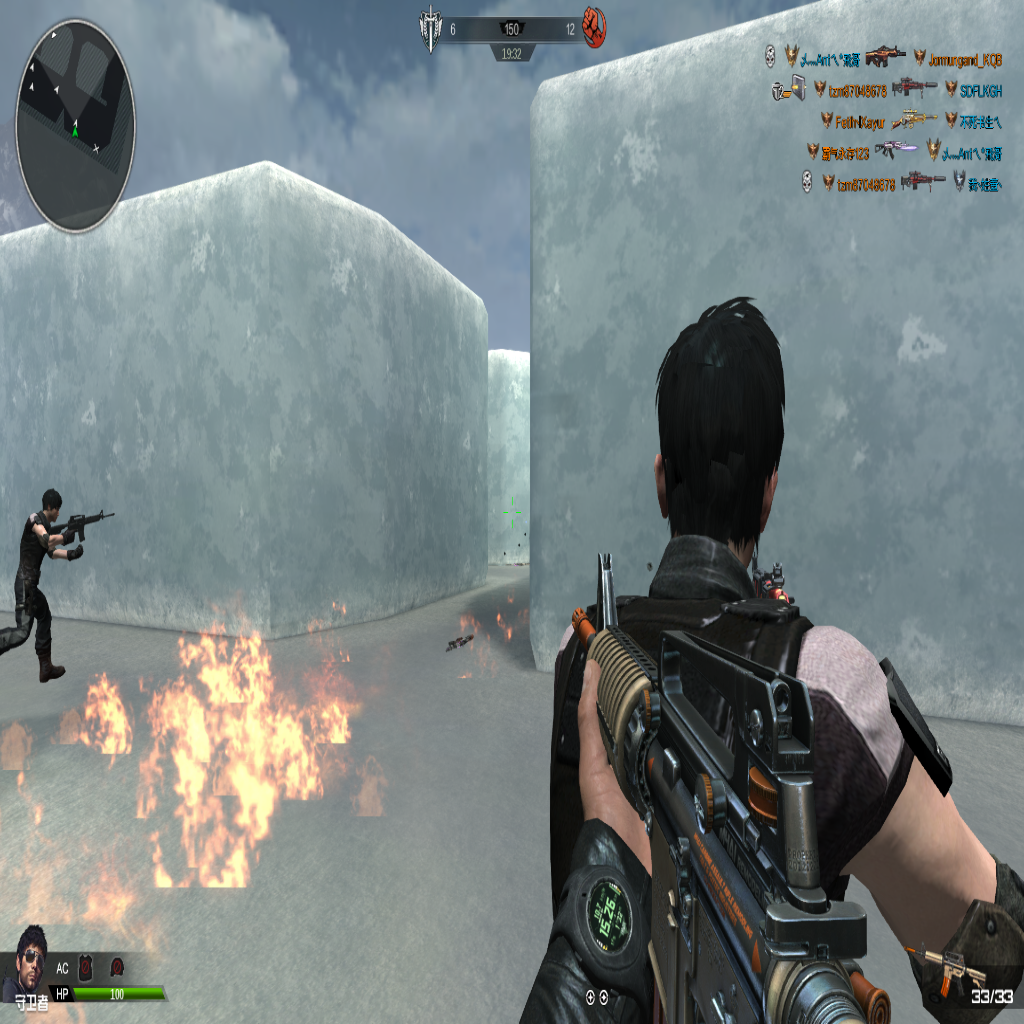ct: (2, 494, 104, 698)
